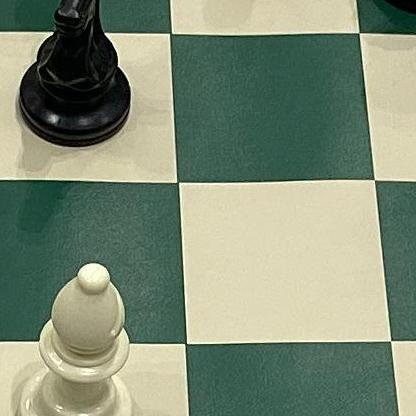black-knight: (0, 0, 138, 153)
white-bishop: (3, 242, 148, 416)
